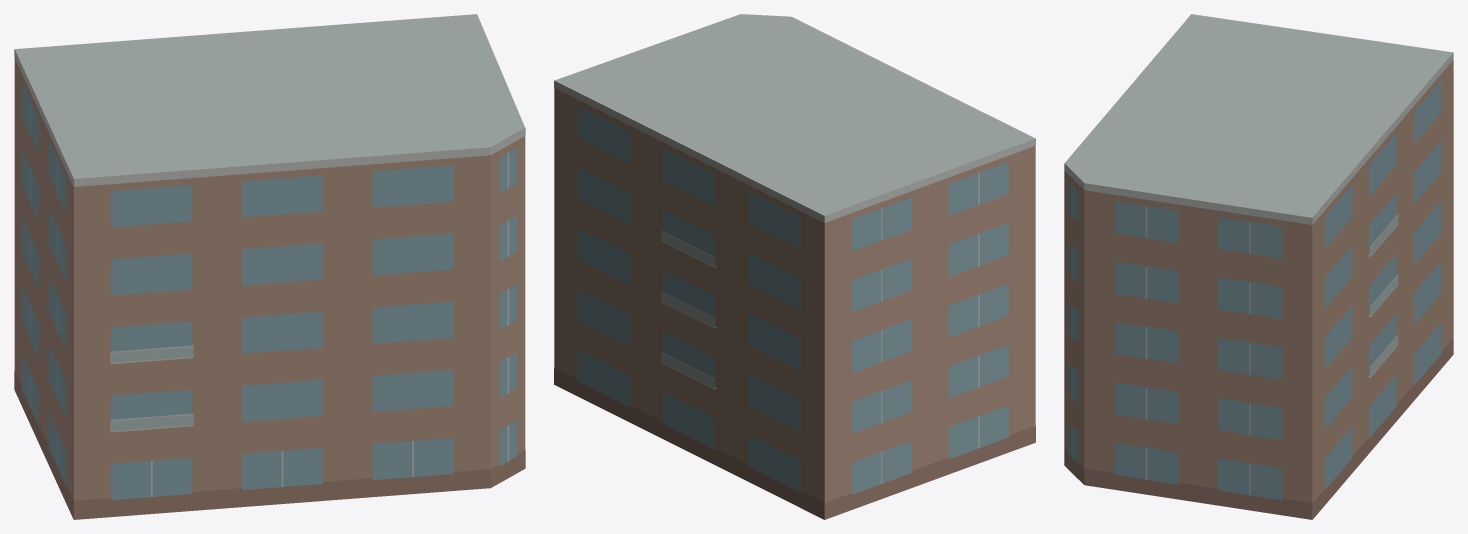
File: survey-upis-32894456.glb
The picture shows the model from 3 angles, left to right: view 1: azimuth 30°, elevation 25°; view 2: azimuth 150°, elevation 25°; view 3: azimuth 270°, elevation 25°; orthographic projection. The views are drawn at different scales.
Visible parts, largest first — view 1: survey-upis-32894456.tmp; view 2: survey-upis-32894456.tmp; view 3: survey-upis-32894456.tmp.
Part boxes in pixels (box(x1,y1,x2,y2)): survey-upis-32894456.tmp: box(14, 14, 525, 519); survey-upis-32894456.tmp: box(554, 14, 1035, 519); survey-upis-32894456.tmp: box(1064, 14, 1453, 519).
Size of the model in its own units: 15.07 by 10.4 by 12.16.
